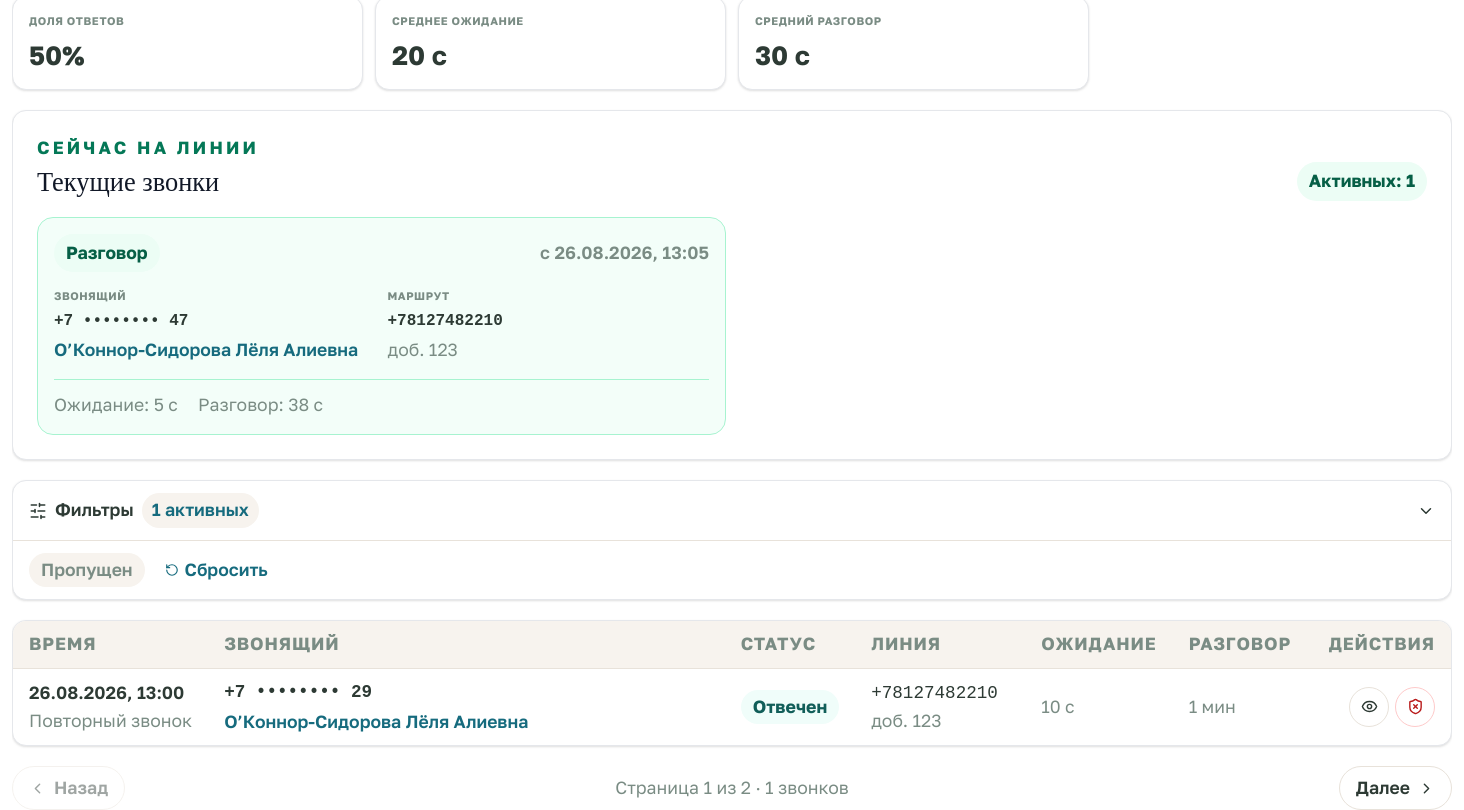
Scenario: Calls admin view › applies a supported status filter from a dashboard deep link
(page scrolled)
Check: the table is shown, box [13,621,1451,745]
Click the button with aria-label "Показать фильтры звонков" at (94, 510), box [13,481,1451,540]
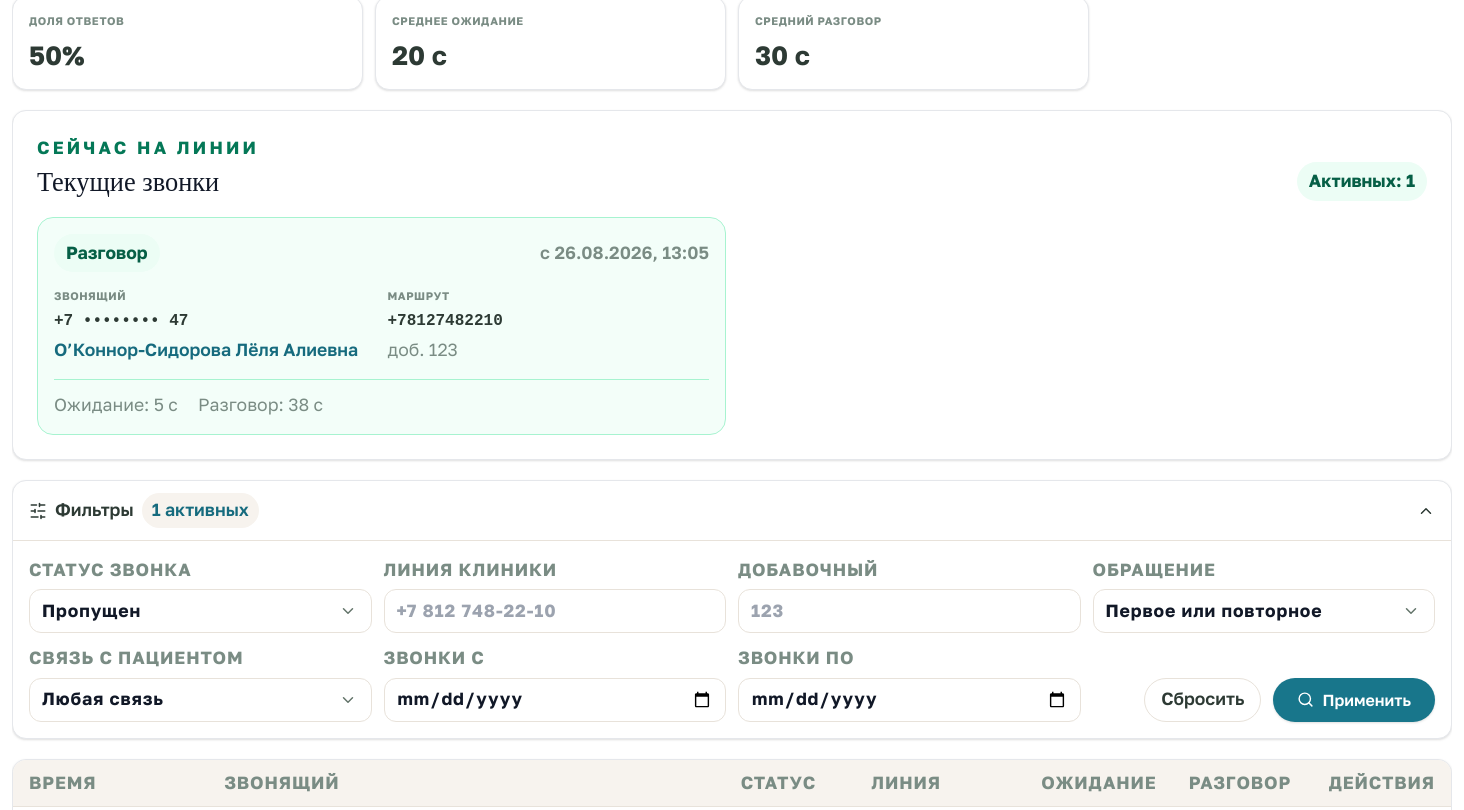
Check: the dropdown labelled "Статус звонка" shows "Пропущен", box [29,589,372,633]
